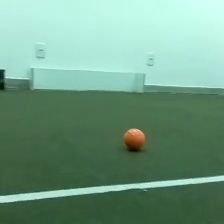ball: (121, 125, 147, 152)
goal: (27, 65, 147, 94)
